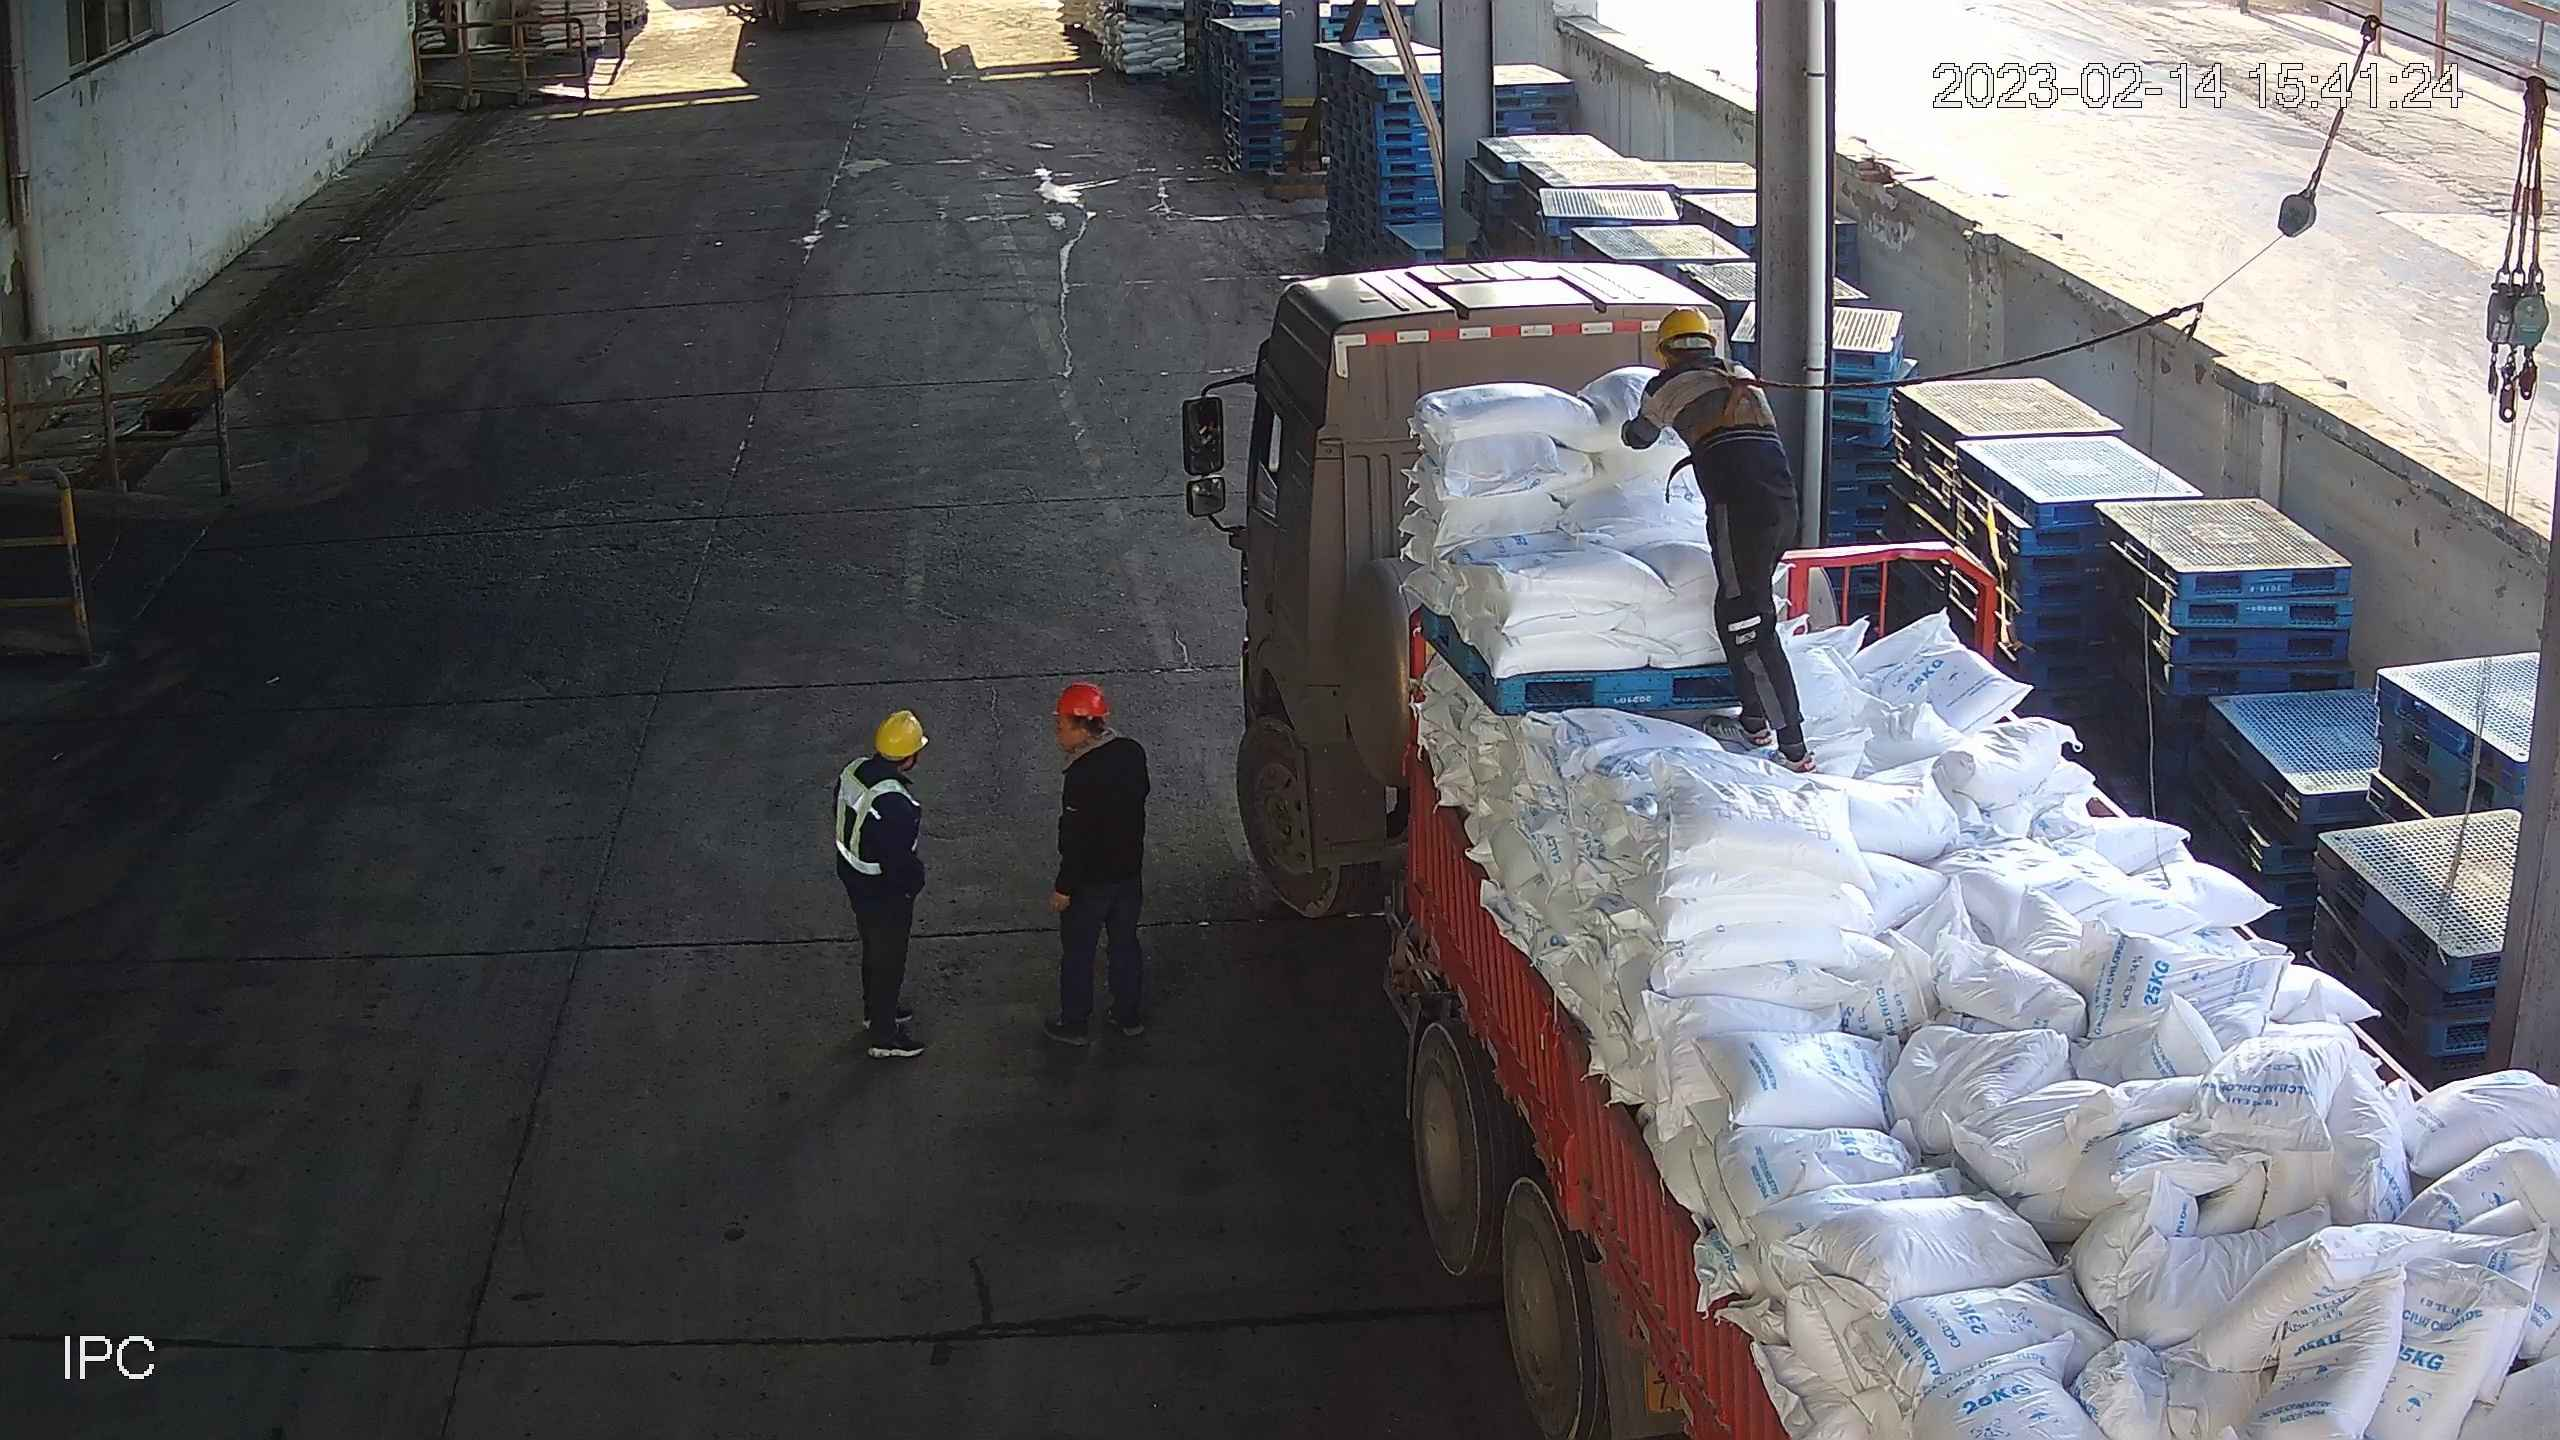belt: (1687, 359, 1768, 443)
head: (1638, 305, 1759, 414), (1050, 679, 1150, 794), (831, 711, 931, 822)
helmet: (1652, 305, 1717, 348), (875, 709, 928, 755), (1050, 682, 1109, 718)
people: (1619, 305, 1816, 774), (1042, 679, 1151, 1047), (831, 710, 931, 1060)
truck: (1182, 263, 2560, 1440)
